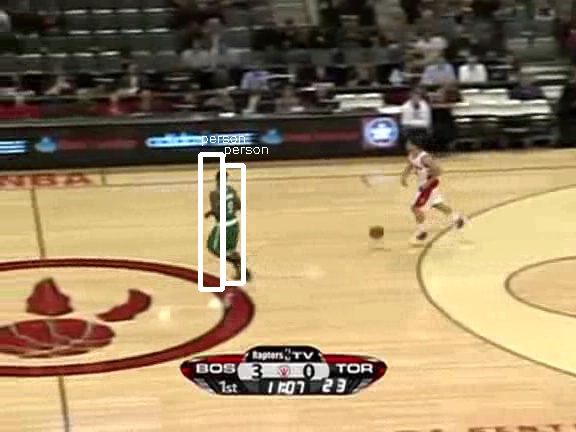person: (211, 179, 245, 260), (210, 179, 244, 260), (212, 179, 246, 260), (211, 178, 245, 259), (211, 180, 245, 261)
target_negative: (130, 9, 345, 132), (320, 109, 511, 127), (142, 310, 440, 321), (548, 299, 568, 419), (519, 339, 573, 360), (117, 415, 391, 419)
